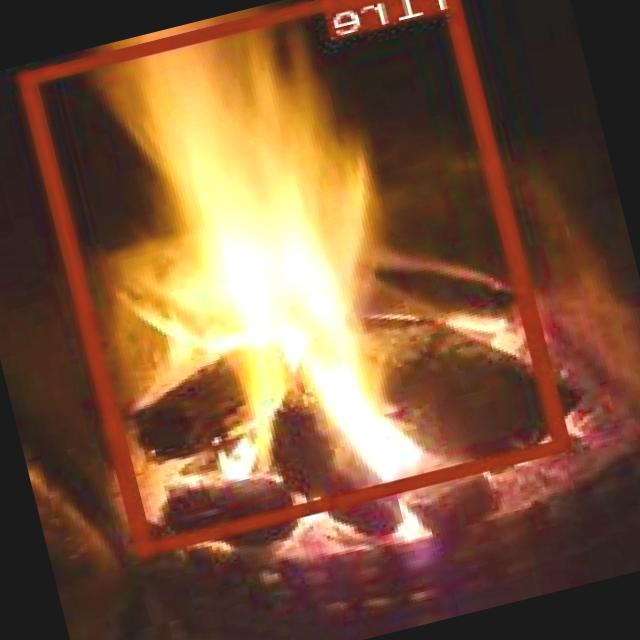fire: (22, 0, 573, 553)
